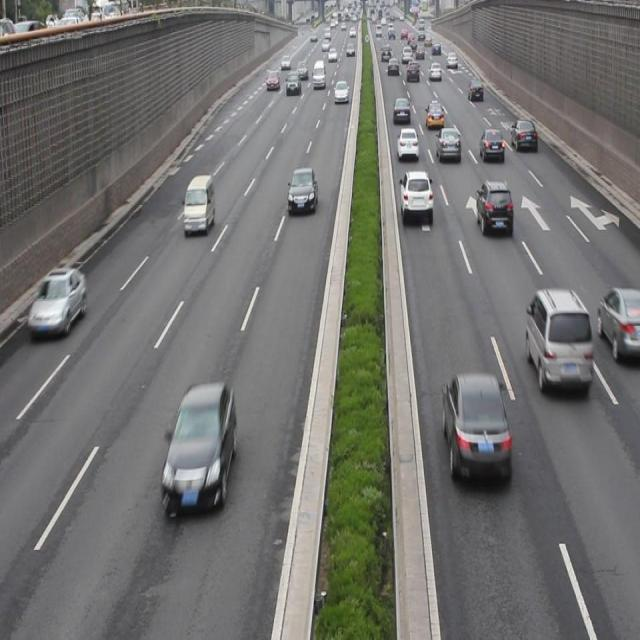car: (160, 383, 236, 512), (442, 372, 510, 483), (524, 288, 592, 396), (28, 265, 86, 338), (596, 284, 640, 361), (476, 179, 513, 236), (399, 170, 432, 220), (287, 168, 318, 215), (434, 124, 460, 162), (478, 126, 504, 164), (510, 117, 537, 153), (396, 126, 419, 161), (424, 99, 444, 129), (392, 95, 409, 124)
truck: (183, 174, 216, 235)
